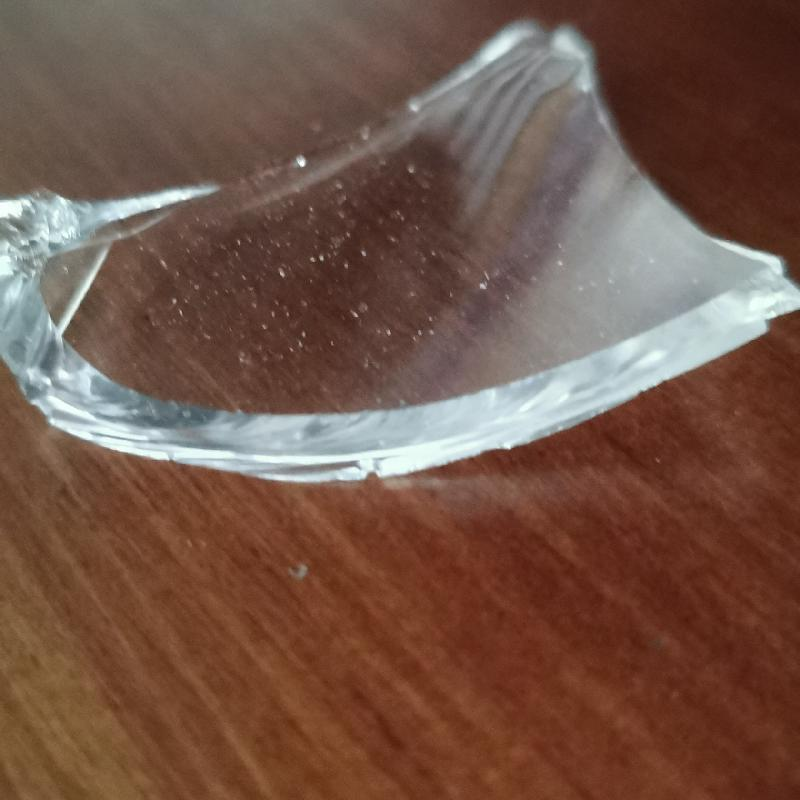glass: (9, 29, 795, 488)
